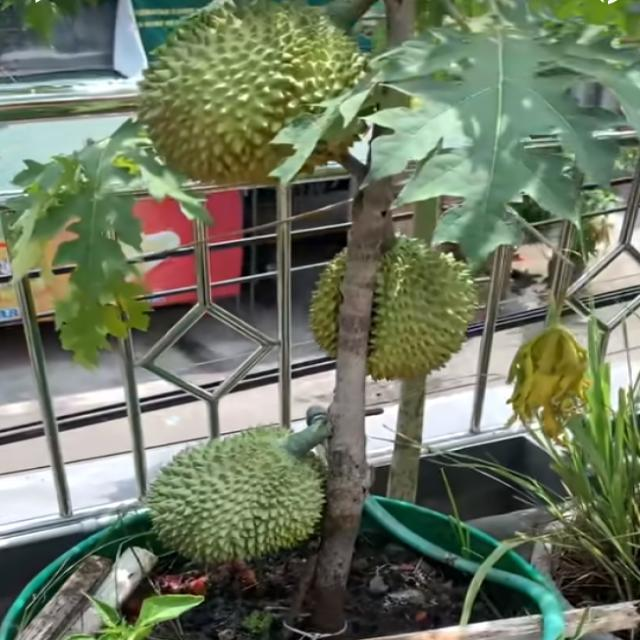immature: (136, 1, 384, 199), (304, 228, 482, 385), (135, 428, 331, 570)
